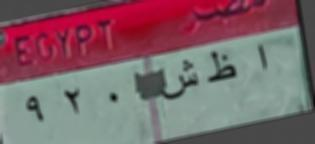0: (105, 85, 124, 108)
2: (61, 85, 86, 117)
9: (21, 90, 48, 125)
Thaa: (205, 45, 237, 89)
alif: (250, 39, 277, 75)
sheen: (162, 56, 202, 105)
